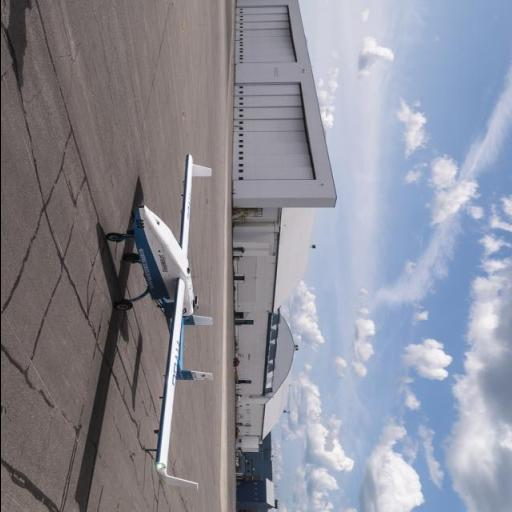uav: (98, 152, 218, 494)
